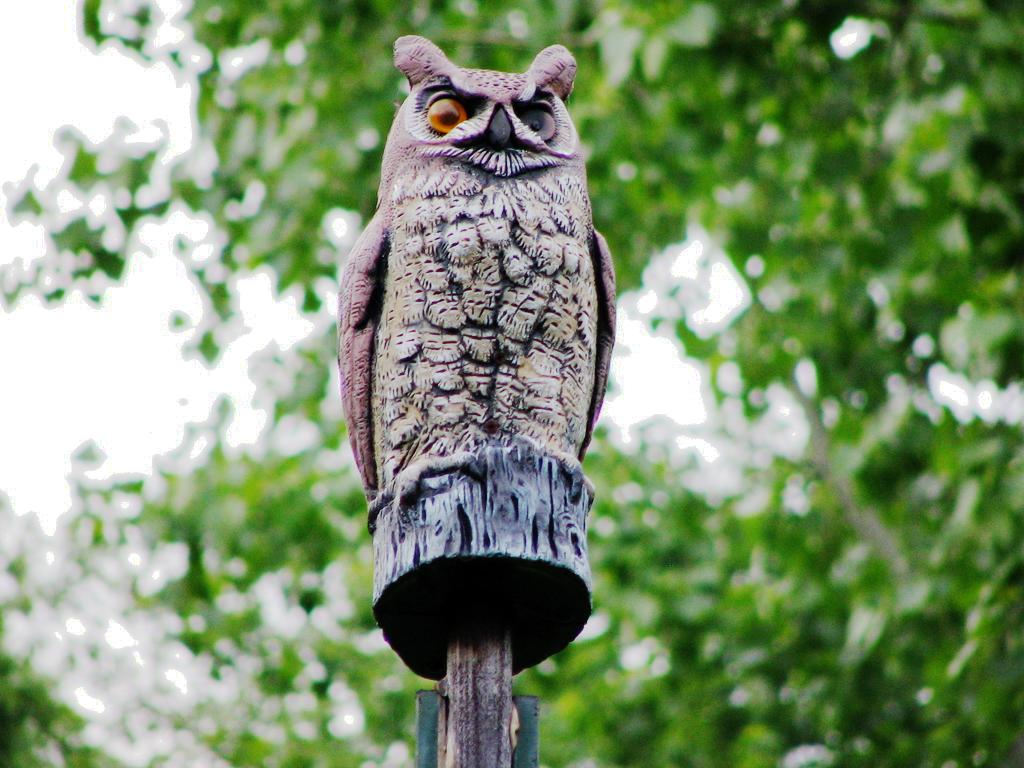Owl: (338, 31, 622, 502)
